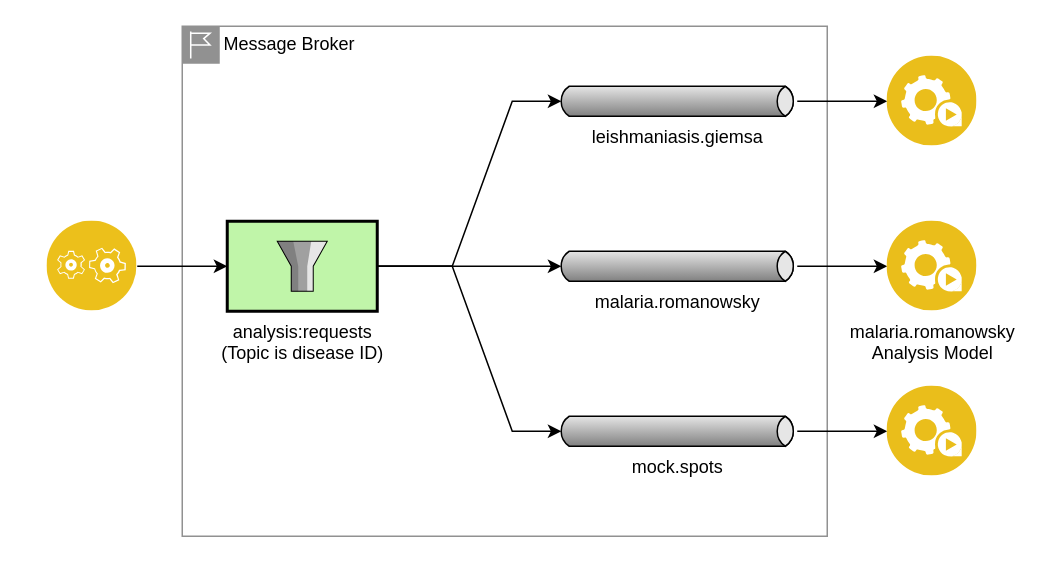
The diagram is 1043 pixels wide and 563 high, and some of its shapes have lost their labels. The shapes that lost their labels are listed below. From the top down, each one's centre as x and y in pixels, then its label:
At [931,101]: "leishmaniasis.giemsa Analysis Model".
At [91,265]: "analysis_service".
At [931,431]: "mock.spots Analysis Model".
